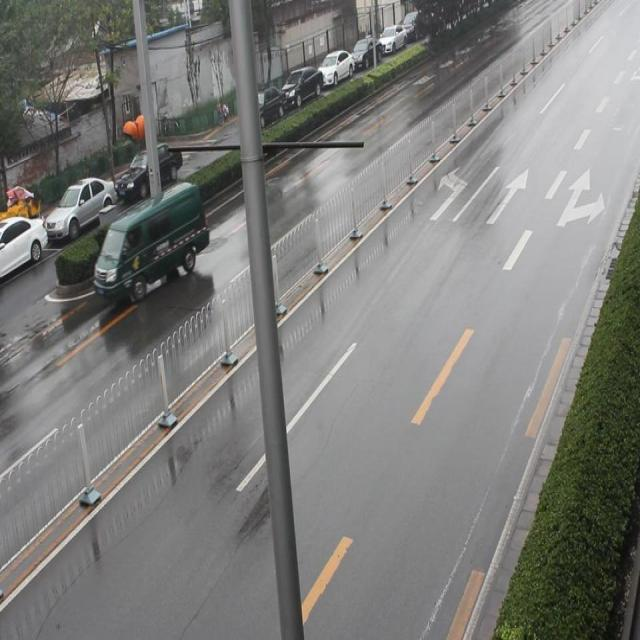truck: (93, 184, 210, 309)
